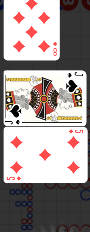5D: (68, 128, 85, 134)
8D: (52, 40, 59, 57)
